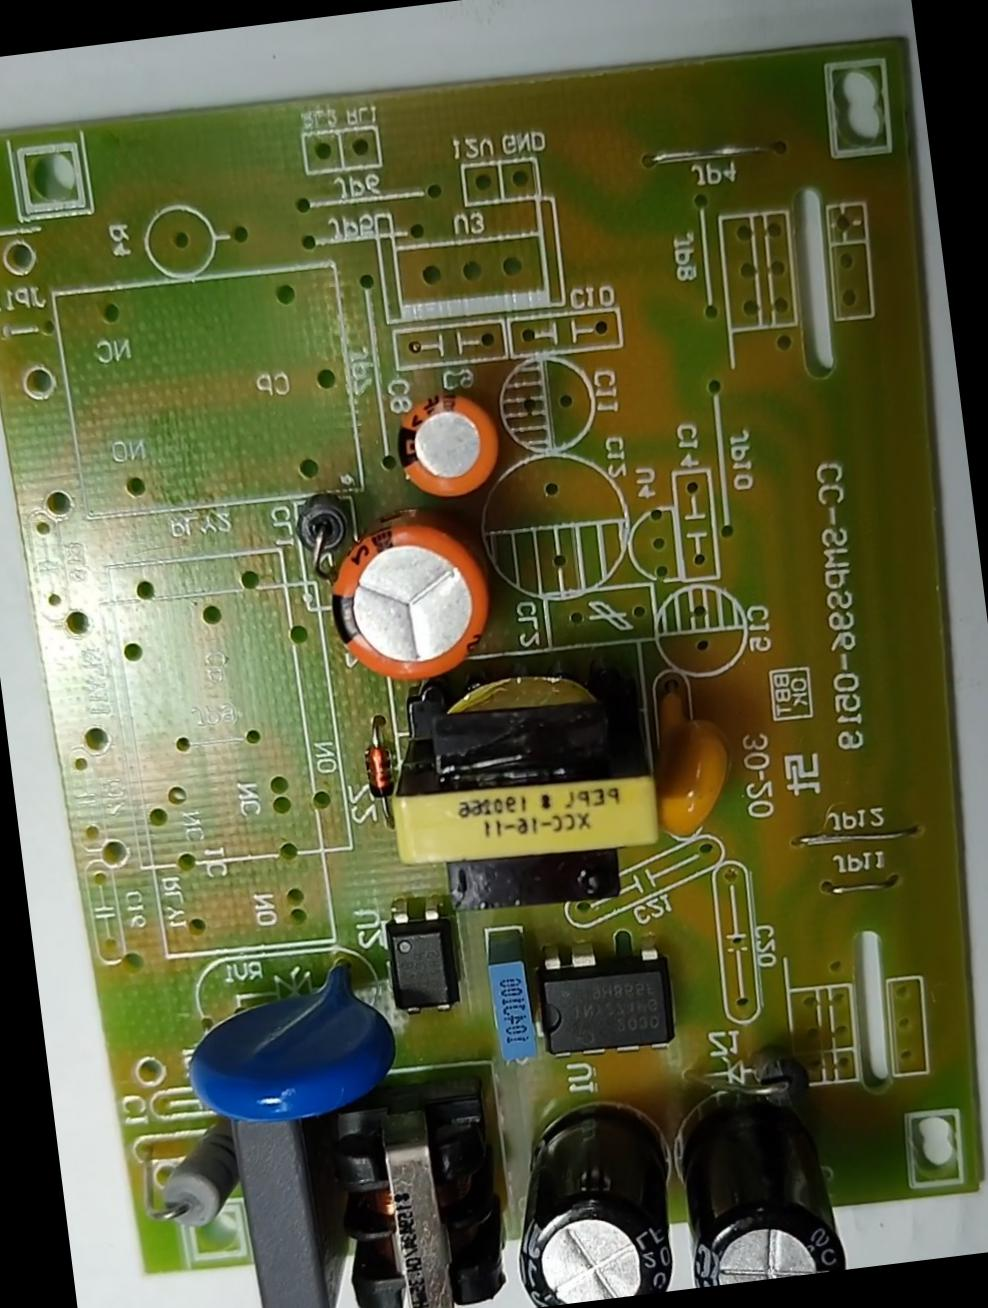Cap1: (318, 501, 500, 694)
Cap2: (385, 381, 506, 507)
Cap3: (500, 1096, 683, 1307)
Cap4: (662, 1069, 848, 1288)
MOSFET: (528, 938, 677, 1064)
Mov: (173, 955, 399, 1135)
Resistor: (150, 1123, 245, 1234)
Transformer: (379, 659, 679, 930), (314, 1070, 512, 1307)
